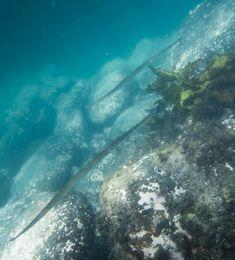Fistularia commersonii: (15, 81, 168, 243)
